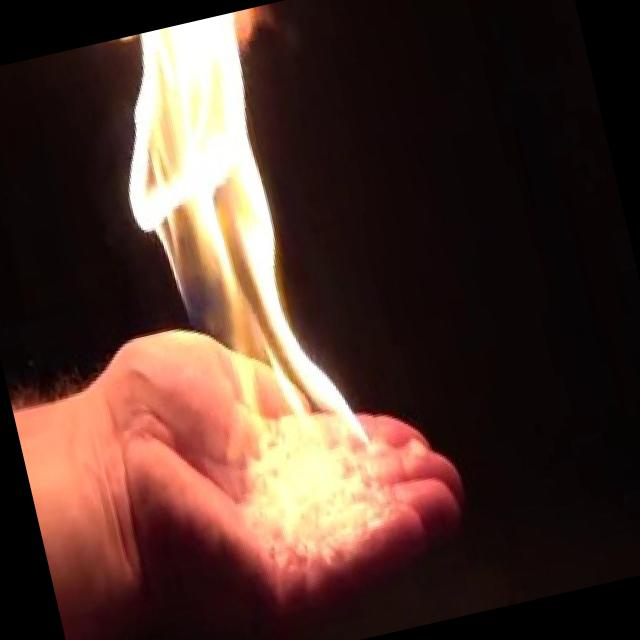Fire: (80, 2, 384, 522)
